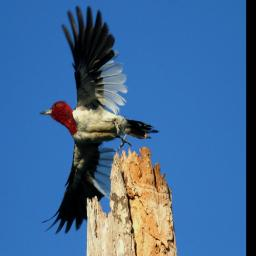Woodpecker: (40, 4, 160, 235)
